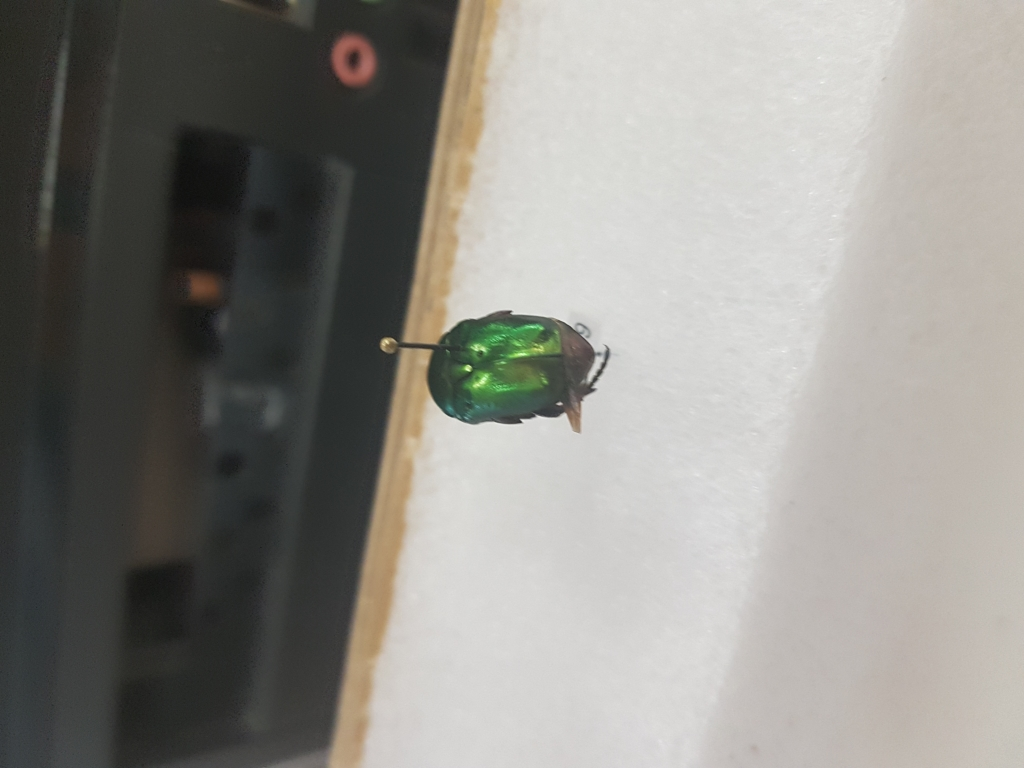Protaetia_cuprea_ignicollis: (418, 295, 626, 434)
